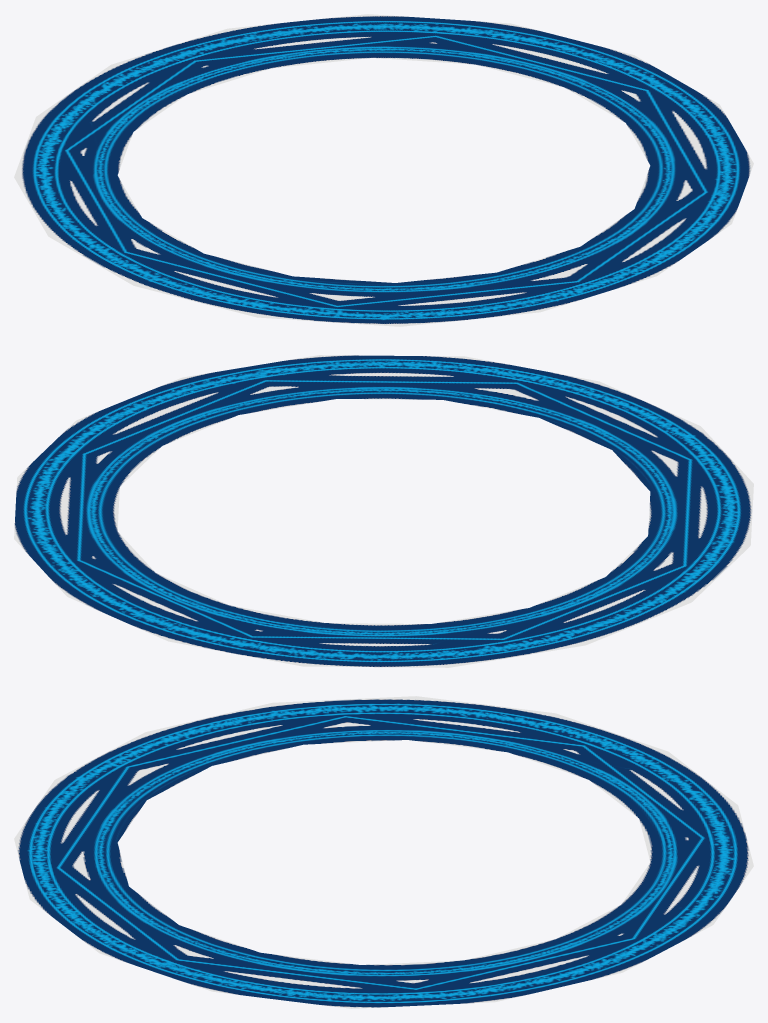
File: Magic_Circle.fbx
3 renders of one model, top to bottom at view 1: azimuth 30°, elevation 25°; view 2: azimuth 150°, elevation 25°; view 3: azimuth 270°, elevation 25°, orthographic.
Parts seen in each view (by area): view 1: base; view 2: base; view 3: base.
Boxes of the visible parts, x1,y1,x2,y2 form: base: [14, 14, 753, 326]; base: [14, 355, 753, 667]; base: [14, 696, 753, 1008].
Bounding box in the file's own units: 59.77 × 4.44e-06 × 59.77.
1 material, 1 textured.
